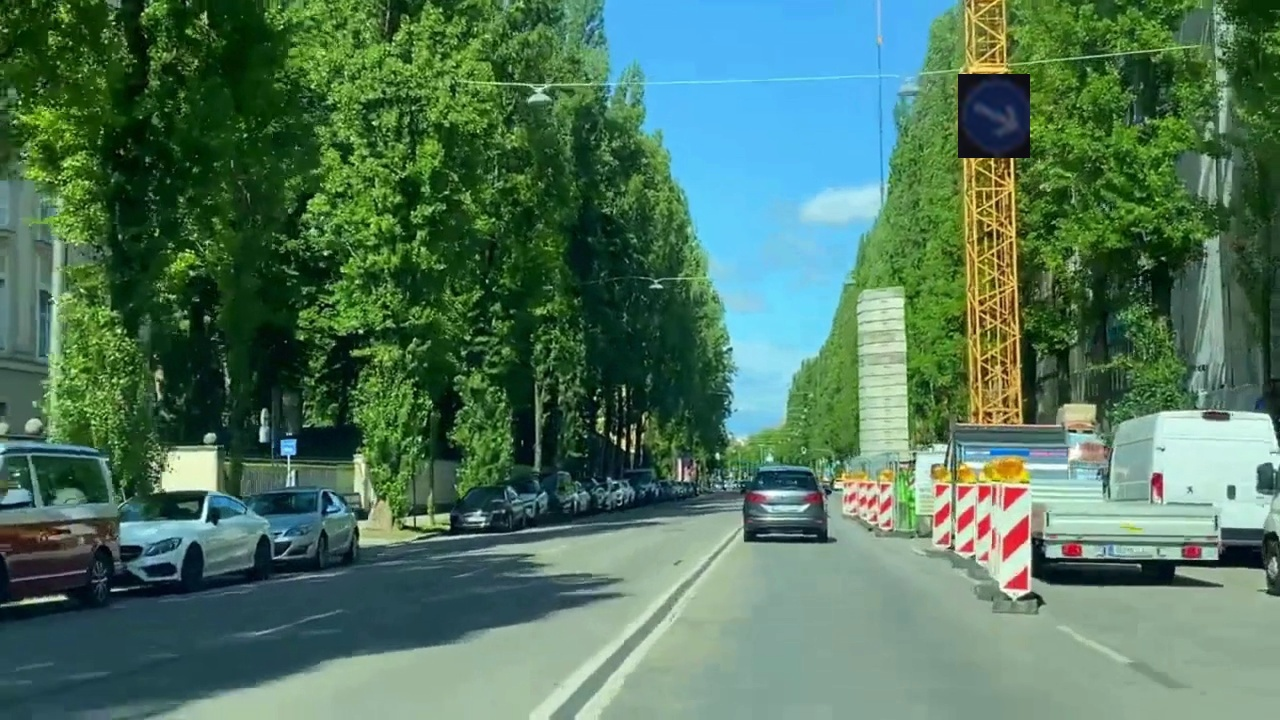Keep right: (958, 74, 1030, 158)
